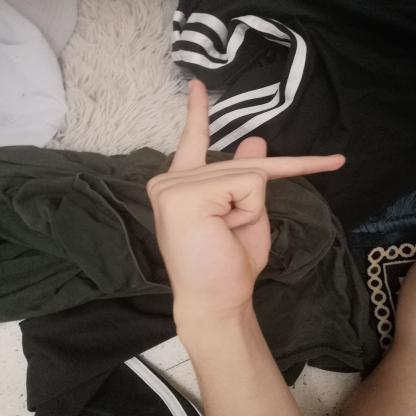DHAA: (134, 70, 356, 319)
